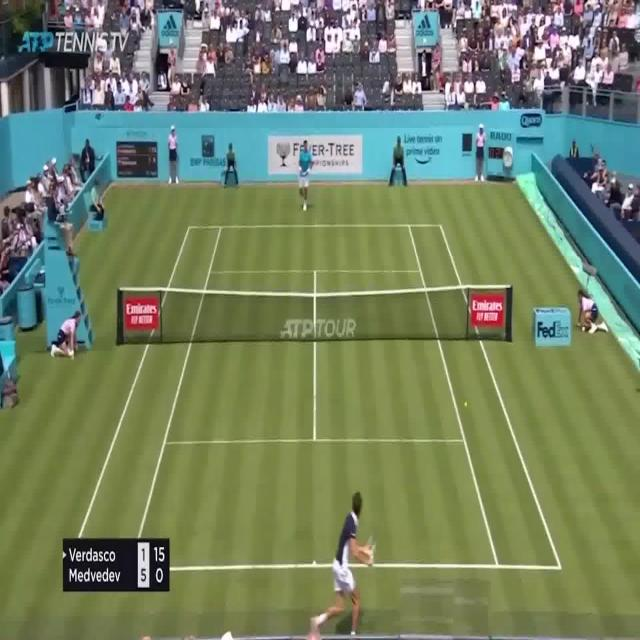bottom-dead-zone: (132, 442, 498, 568)
court: (68, 225, 561, 570)
left-doubles-alley: (70, 227, 221, 565)
left-service-box: (164, 271, 316, 444)
net: (115, 283, 513, 349)
right-doubles-alley: (408, 226, 563, 570)
right-service-box: (314, 271, 466, 441)
top-dead-zone: (209, 227, 421, 273)
